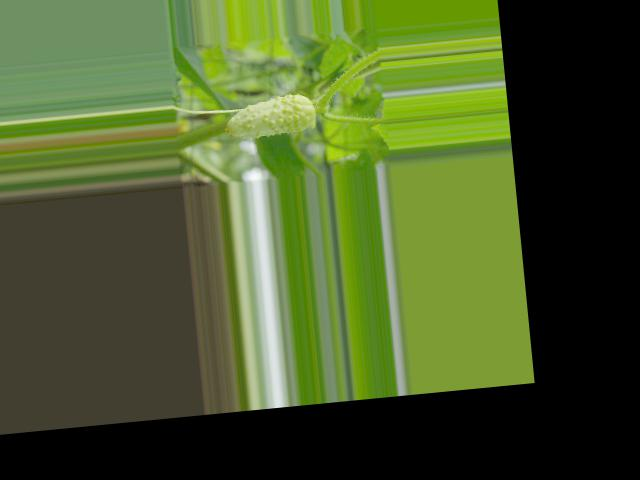cucumber: (221, 91, 317, 139)
